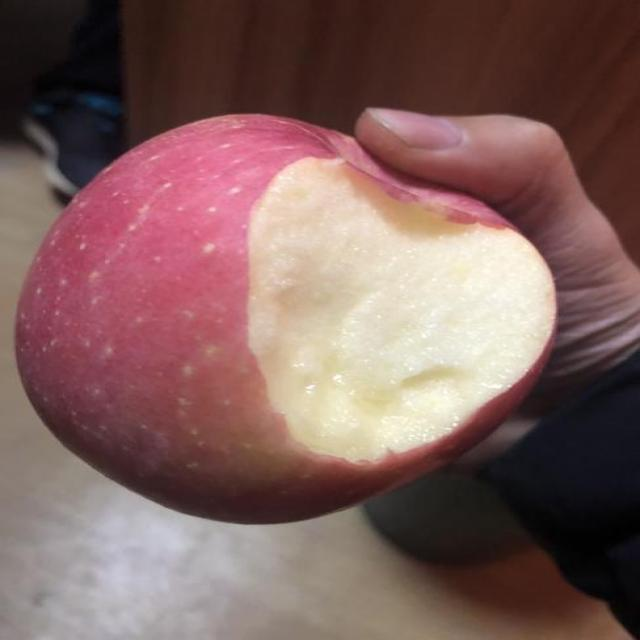Rotten: (2, 104, 555, 528)
